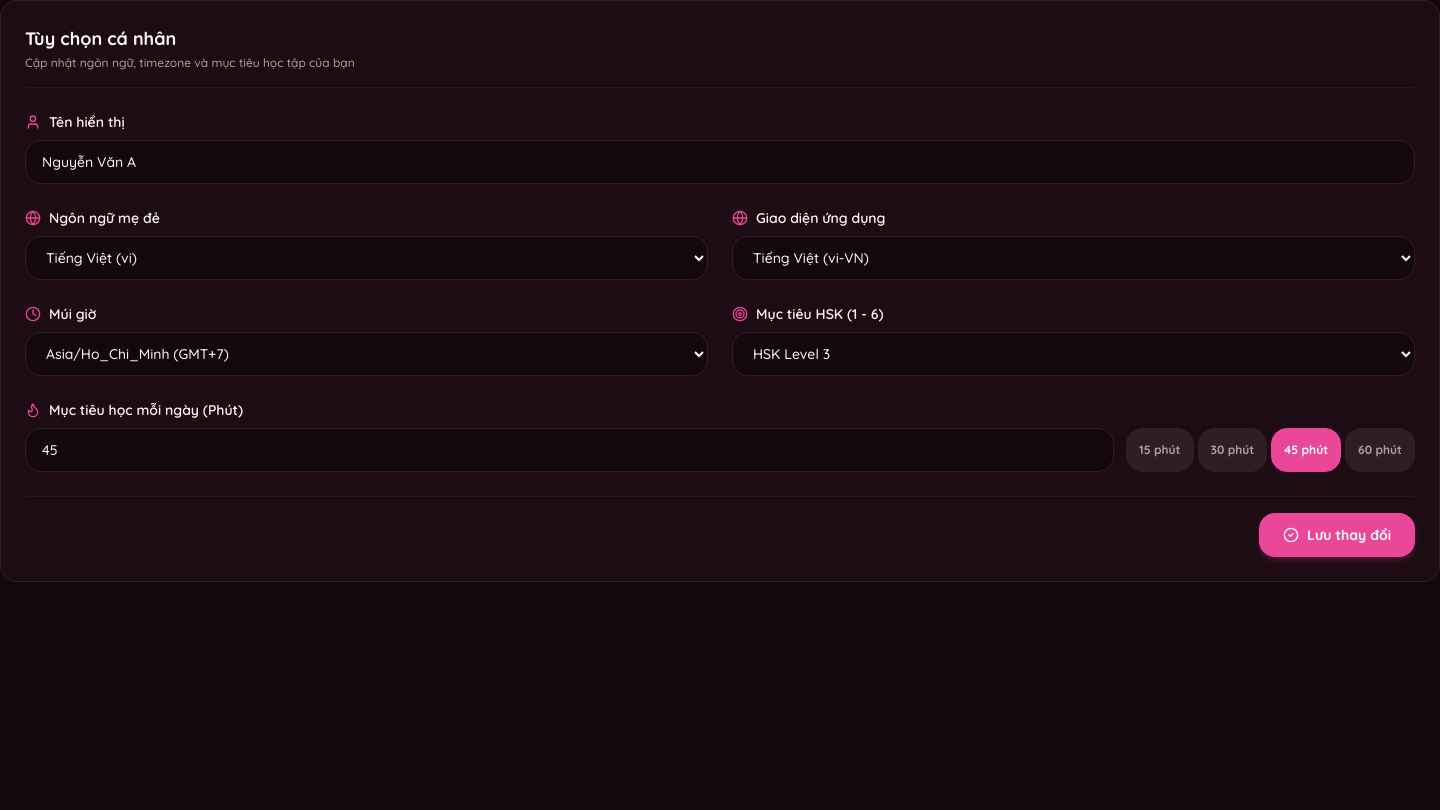
it: ProfilePreferencesForm Component › displays conflict alert on 409 STATE_CONFLICT and supports profile reload
The image size is (1440, 810).
What coordinates should you click on to do the following:
click the button with test id "profile-submit-btn"
I would click on:
 (1337, 535)
Its box is [1259,513,1415,557].
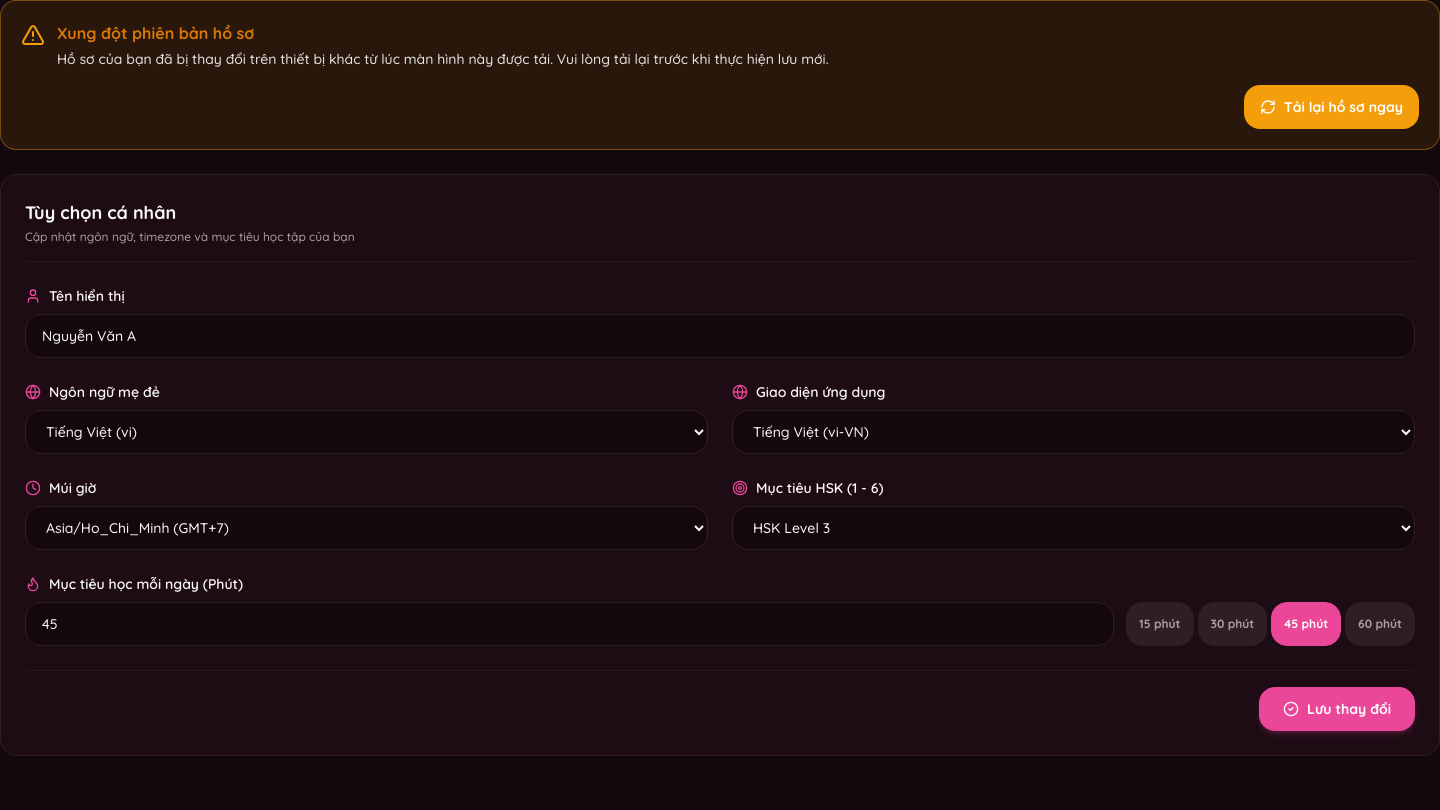
Expected: the message with test id "profile-conflict-alert" is shown, [0,0,1439,150]
What coordinates should you click on to do the following:
click the button with test id "profile-reload-btn"
I would click on:
 (1331, 107)
Its box is [1244,85,1419,129].
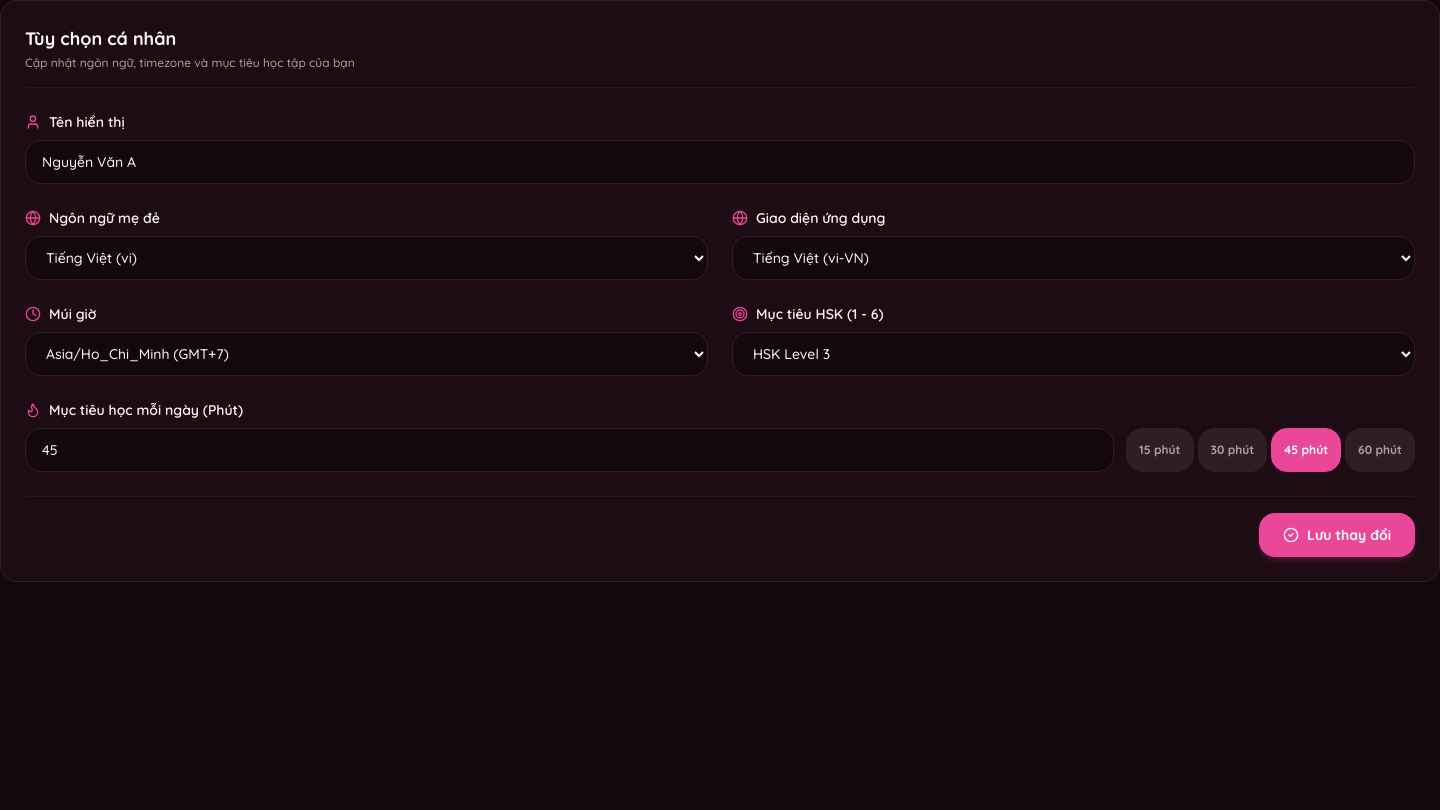
Expected: the message with test id "profile-conflict-alert" is gone
